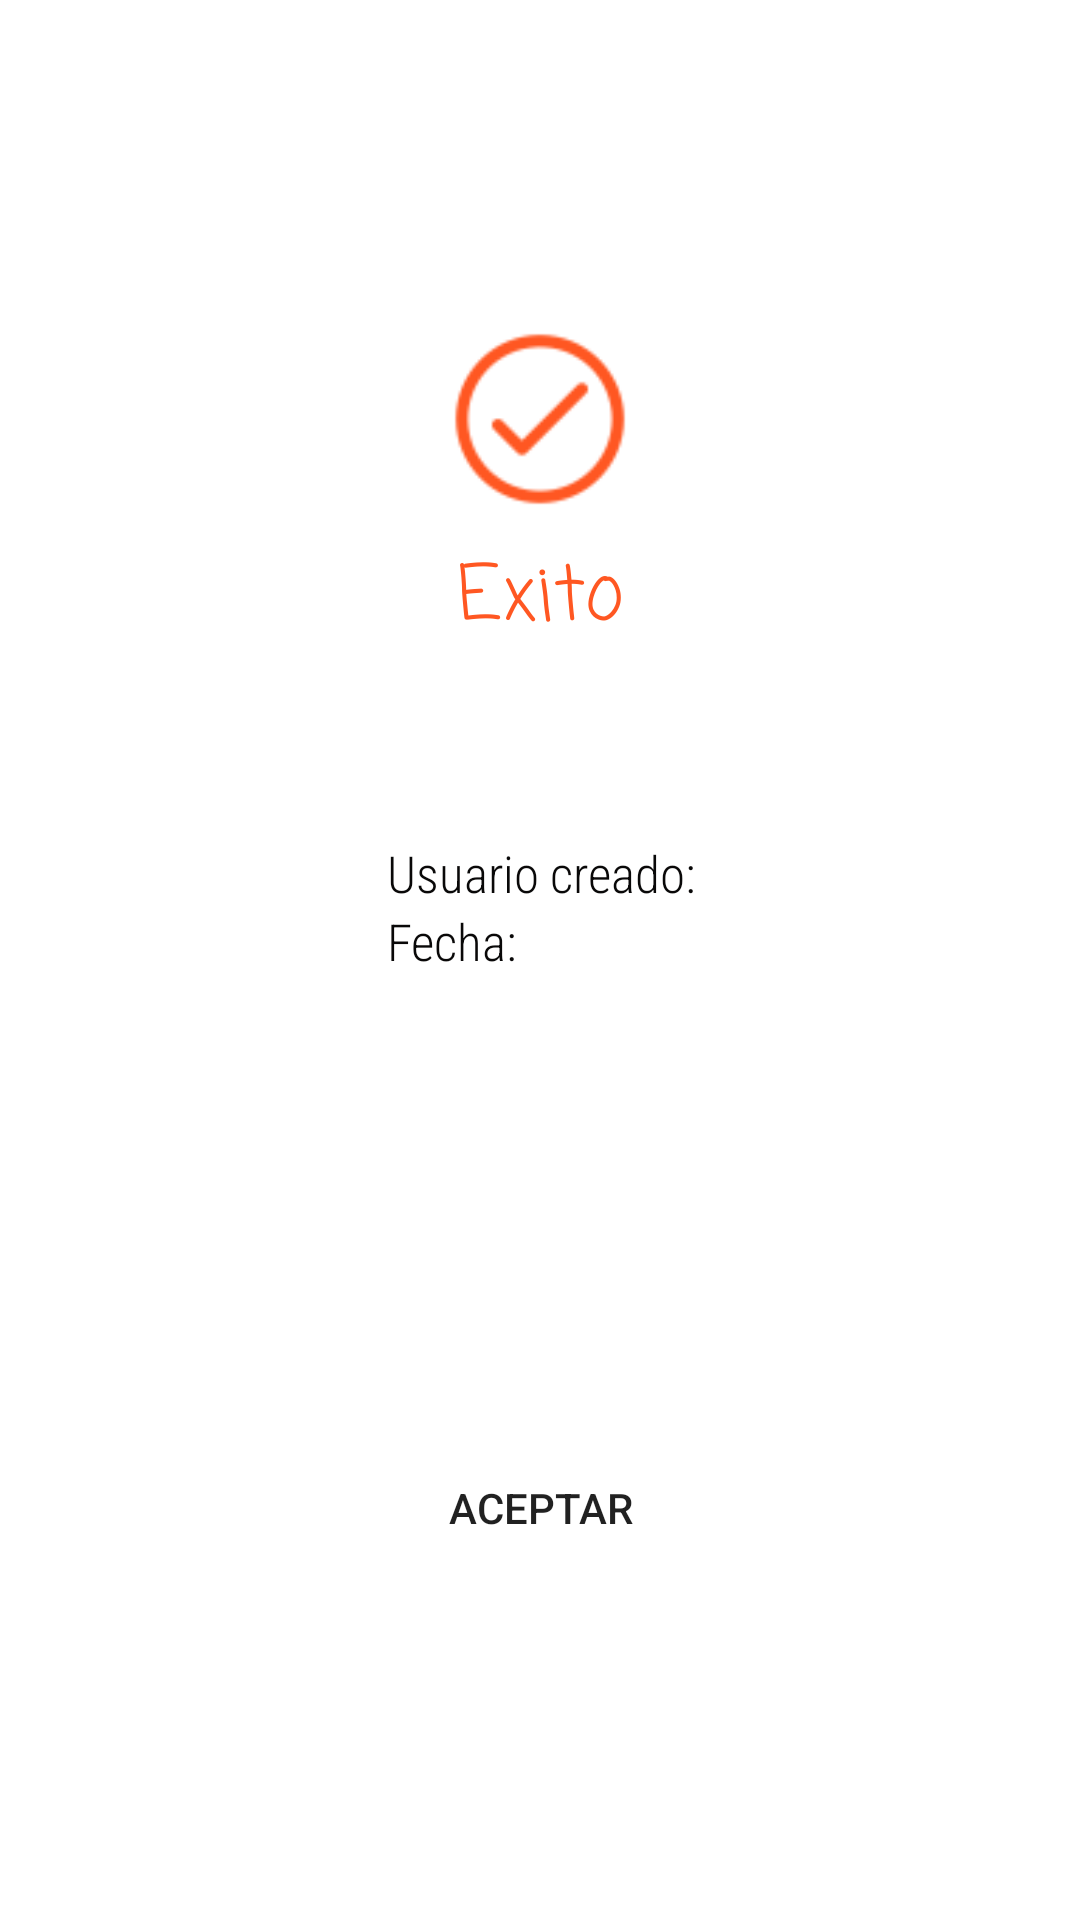

Screen size 1080 × 1920. Icon name, then its box in pixels as (x1, y1, x2, y2):
iconscheck: (455, 334, 625, 504)
